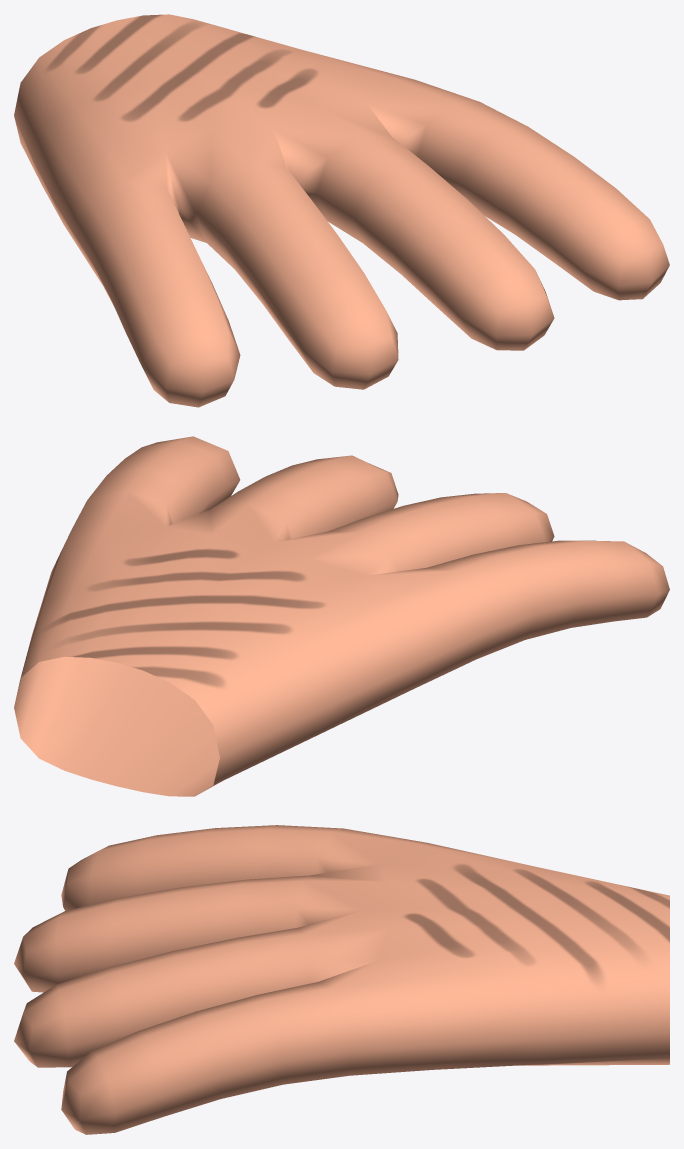
The model's file is hand.glb.
3 views of the same model, one above another, from view 1: azimuth 30°, elevation 25°; view 2: azimuth 150°, elevation 25°; view 3: azimuth 270°, elevation 25° (orthographic). The views are drawn at different scales.
Parts seen in each view (by area): view 1: Hand; view 2: Hand; view 3: Hand.
Boxes of the visible parts, x1,y1,x2,y2 form: Hand: [14, 14, 669, 407]; Hand: [14, 436, 669, 796]; Hand: [14, 825, 669, 1134].
Size of the model in its own units: 4.91 by 1.22 by 5.51.
Materials: 1 (1 with a texture image).
